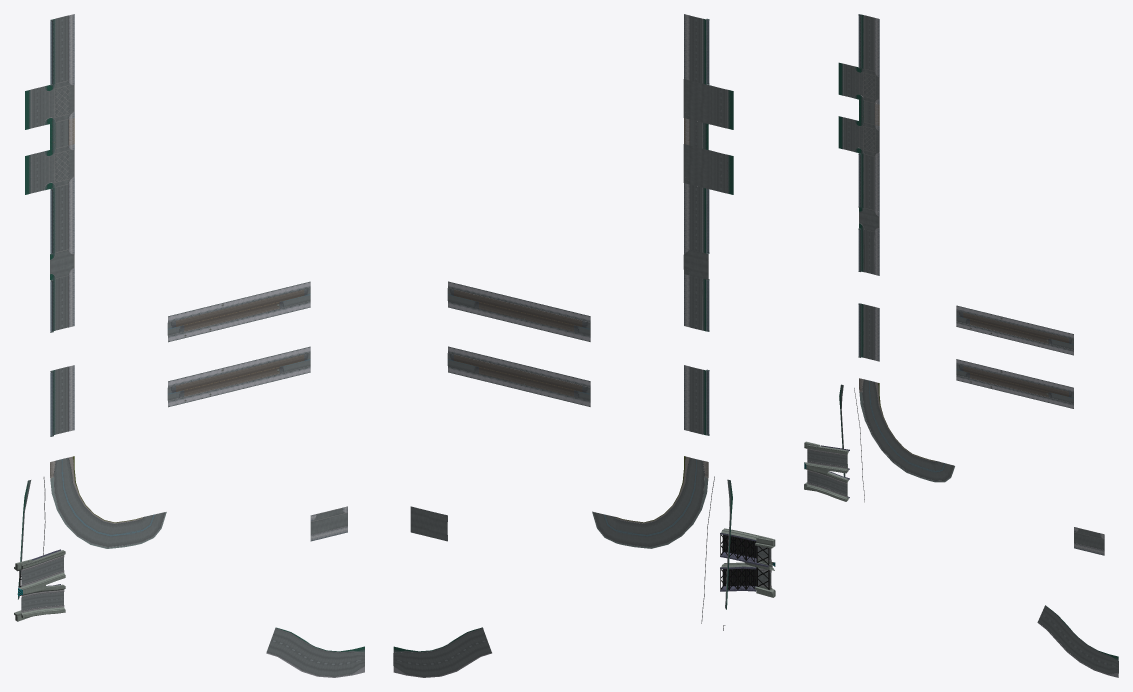
File: industsw_industsw__part_06.obj
3 renders of one model, left to right at view 1: azimuth 30°, elevation 25°; view 2: azimuth 150°, elevation 25°; view 3: azimuth 330°, elevation 25°, orthographic. The views are drawn at different scales.
Visible parts, largest first — view 1: industsw_industsw__part_06; view 2: industsw_industsw__part_06; view 3: industsw_industsw__part_06.
Boxes of the visible parts, x1=… form: industsw_industsw__part_06: x1=14, y1=14, x2=364, y2=677; industsw_industsw__part_06: x1=393, y1=14, x2=775, y2=677; industsw_industsw__part_06: x1=804, y1=14, x2=1118, y2=677.
Bounding box in the file's own units: 294 × 561 × 36.18.
96 materials, 96 textured.
